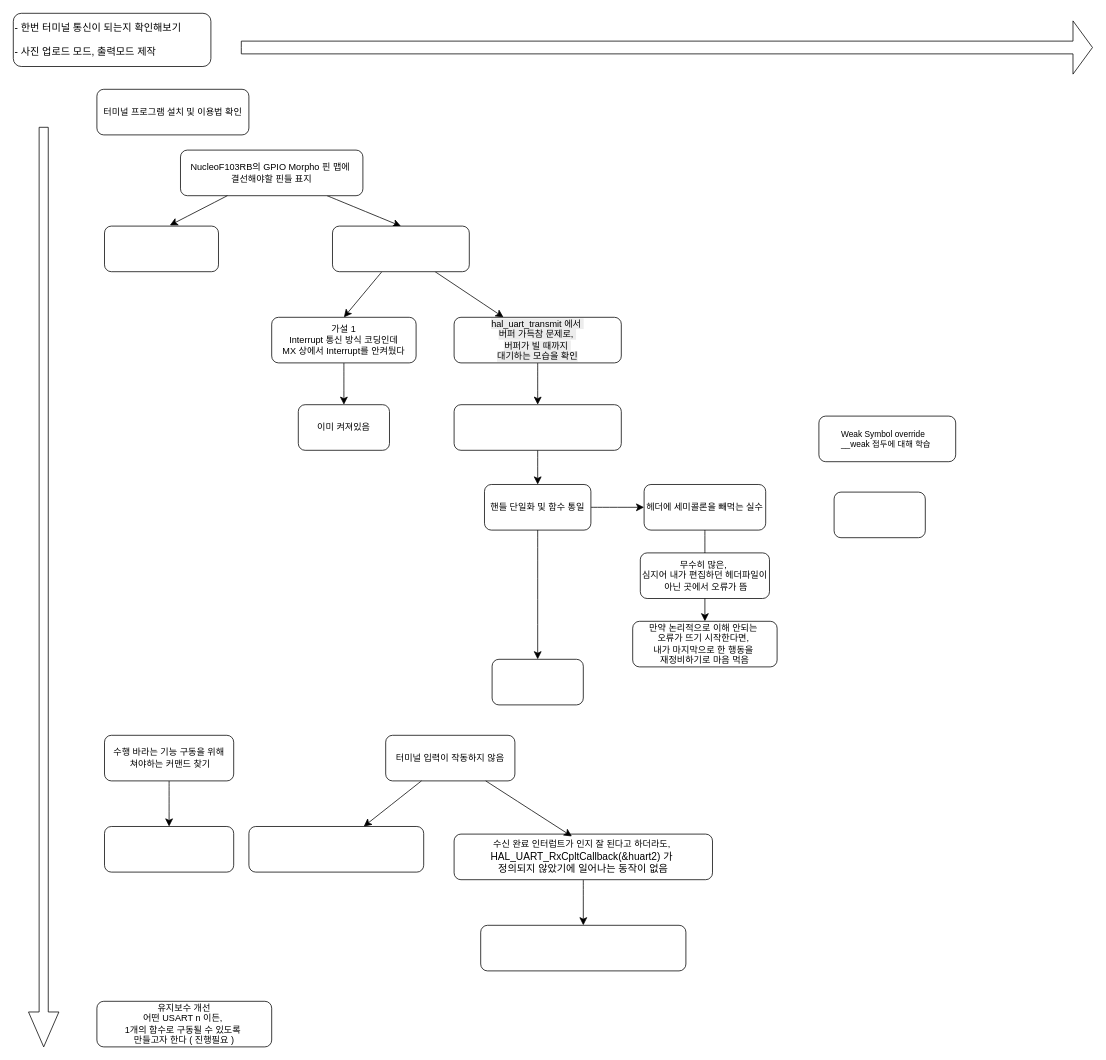
This 1106x1060 diagram has some shape labels left out. The box of each missing label's shape, as (x1, y1, x2, y2) in pixels:
exterm 함수에 대해 학습: (833, 491, 925, 538)
HAL_UART_RxCpltCallback(&huart2) 는 접두로 __weak 가 있기에, 이것을 유저쪽에서 선언해야한다. (진행필요): (480, 925, 686, 971)
STM32 -> PC 방향 UART 터미널 통신 성공: (491, 659, 583, 705)
UART 경로인 STM32 -> PC 방향 통신이 되지 않음: (332, 225, 469, 272)
가설 2 uart 초기화 코드를 옮기는 과정에서, 잘못된 usart 핸들을 사용해 초기화 하고 있다: (453, 404, 621, 450)
되던 기능들 정상 작동 확인: (104, 225, 218, 272)
사용자 입력을 해석하는 함수 w25qxx를 보며, 역순으로 어떤 입력을 해야 하는지 추측 완료: (104, 826, 234, 872)
초기화 하는 과정 중에 HAL_UART_Receive_IT() 가 수행되지 않기에 추가해야함 (진행필요): (248, 826, 424, 872)
